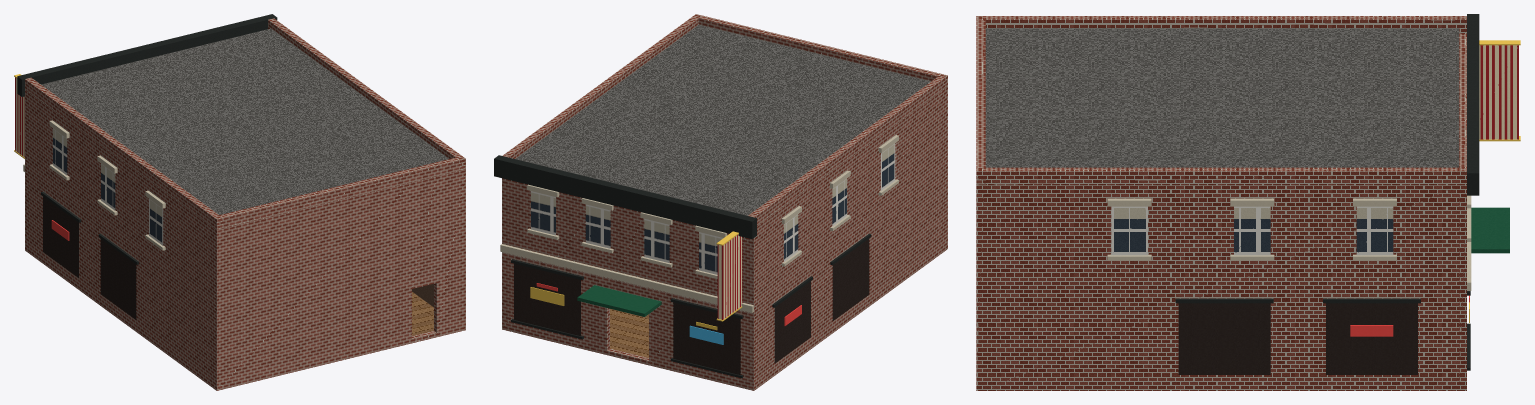
Rendered from corner_tavern_2.glb.
3 renders of one model, left to right at view 1: azimuth 30°, elevation 25°; view 2: azimuth 150°, elevation 25°; view 3: azimuth 270°, elevation 25°, orthographic. The views are drawn at different scales.
Visible parts, largest first — view 1: corner_tavern_2; view 2: corner_tavern_2; view 3: corner_tavern_2.
Part boxes in pixels (x1,y1,x2,y2): corner_tavern_2: (14,14,465,390); corner_tavern_2: (494,14,947,390); corner_tavern_2: (976,14,1520,390).
Bounding box in the file's own units: 12.3 × 7.9 × 17.75.
Materials: 15 (15 with a texture image).
